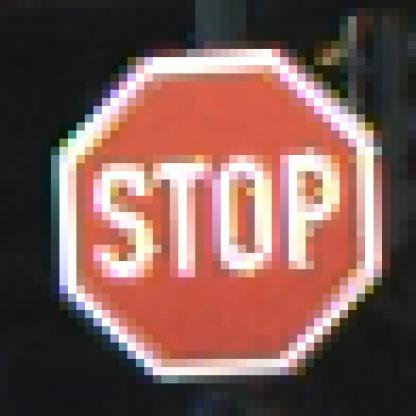Stop: (59, 53, 377, 371)
